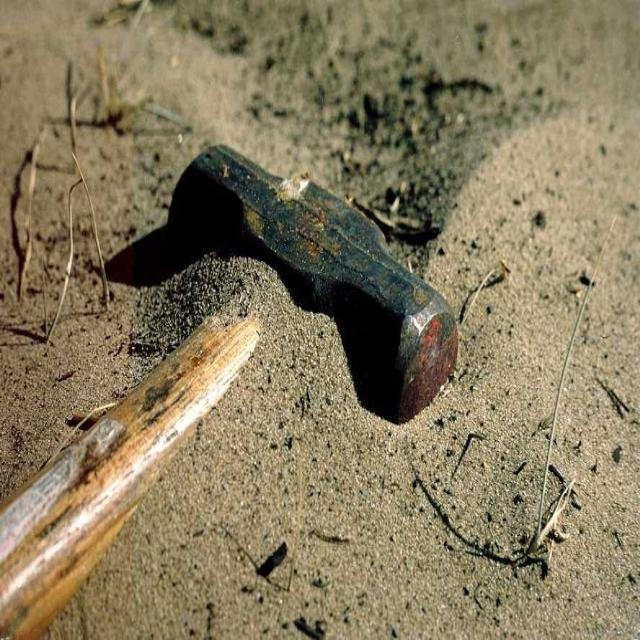hammer: (0, 146, 459, 640)
